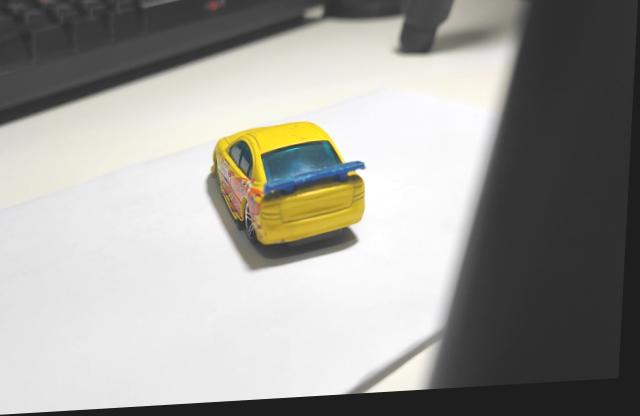02_OZSOME: (215, 126, 367, 247)
